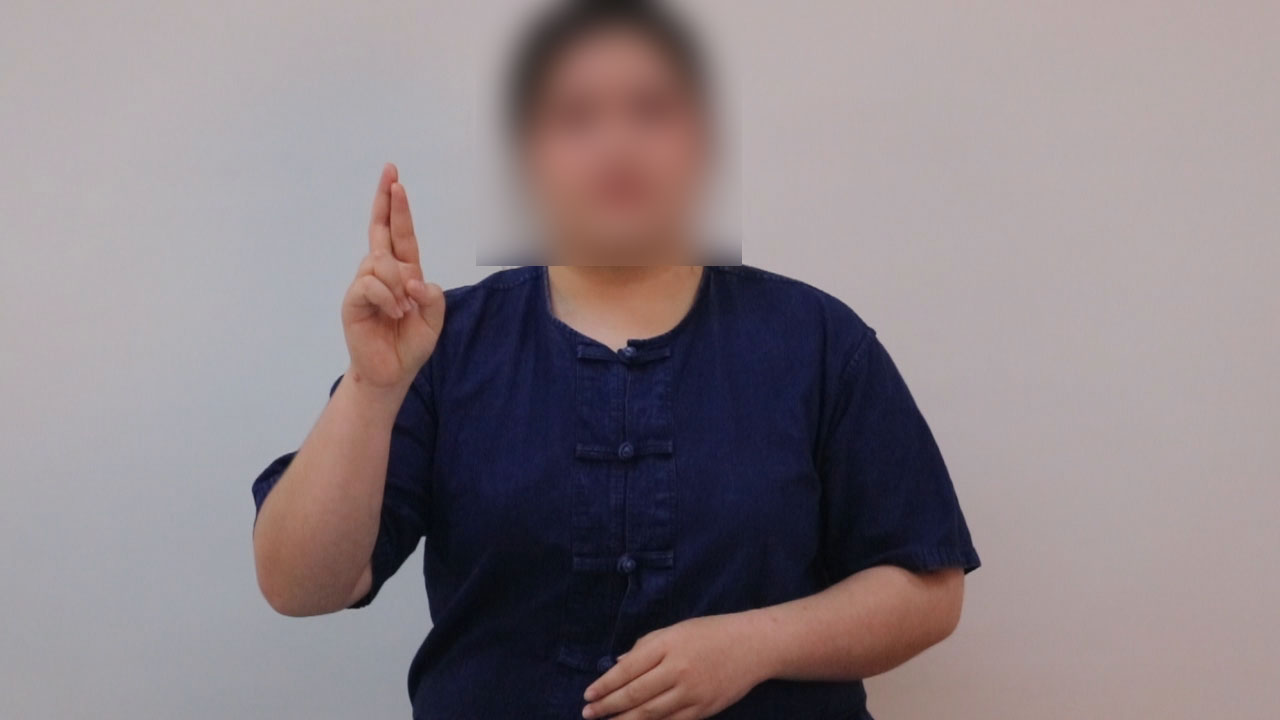rao: (316, 154, 457, 423)
